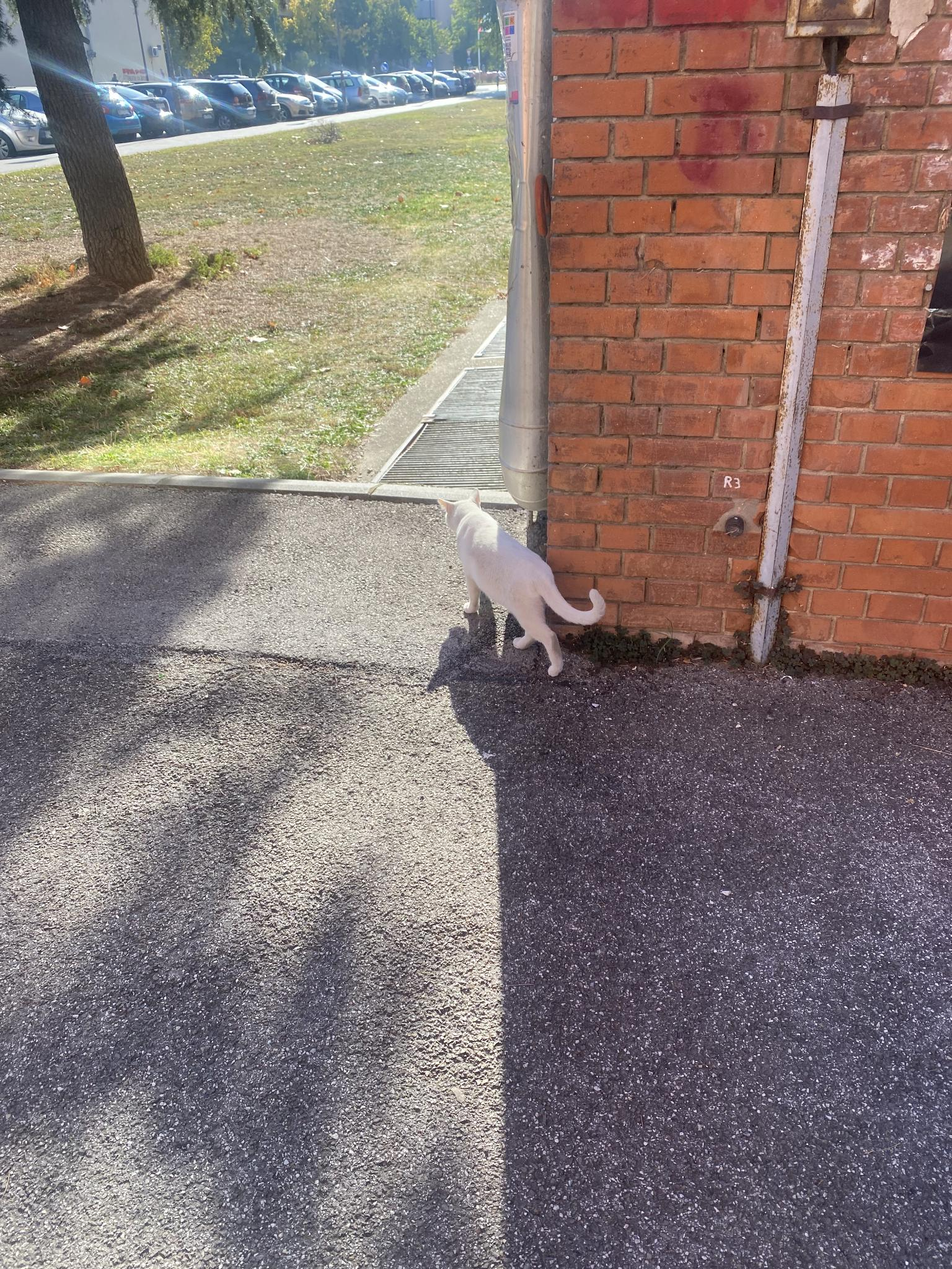macka: (438, 487, 607, 677)
